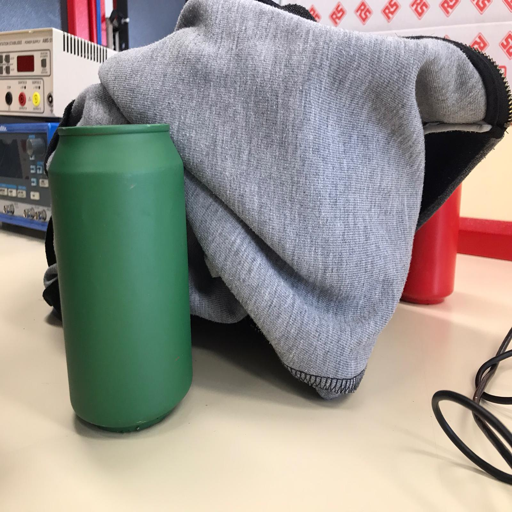Green_Can: (45, 122, 195, 434)
Red_Can: (393, 152, 463, 307)
